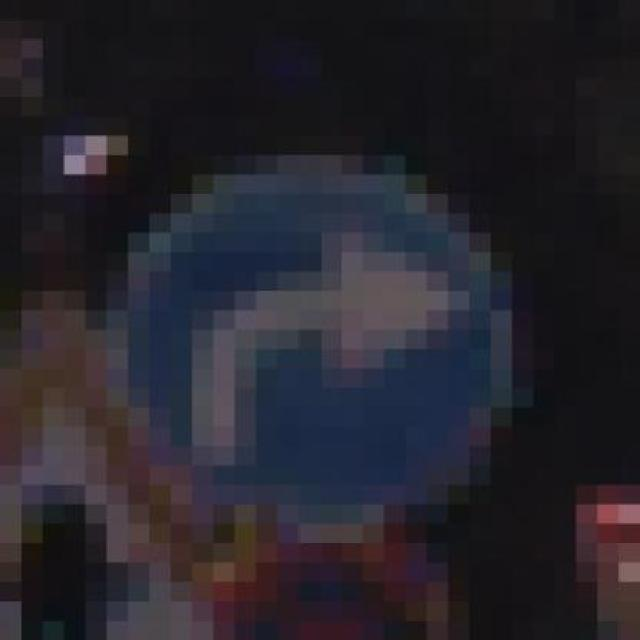Turn right ahead: (128, 135, 534, 543)
